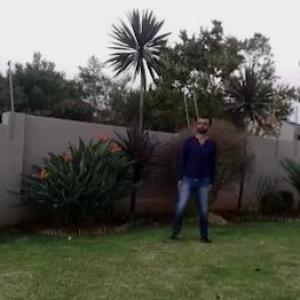follow: (176, 104, 216, 241)
